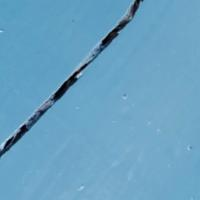crack: (1, 3, 146, 162)
